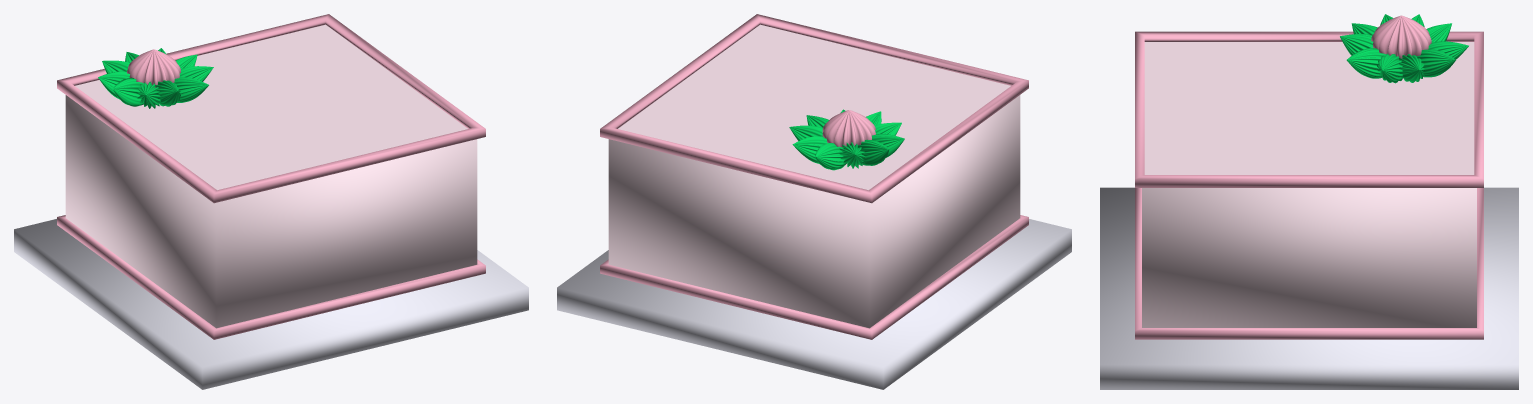
File: square_strawberry_style3.glb
3 views of the same model, side by side, from view 1: azimuth 30°, elevation 25°; view 2: azimuth 150°, elevation 25°; view 3: azimuth 270°, elevation 25° (orthographic). The views are drawn at different scales.
Visible parts, largest first — view 1: CakeBase, CakeTopCircle, IcingStand, IcingRing.001, IcingRing, leaf, design1; view 2: CakeBase, CakeTopCircle, IcingStand, IcingRing.001, IcingRing, leaf, design1; view 3: CakeBase, CakeTopCircle, IcingStand, IcingRing.001, IcingRing, leaf, design1.
Boxes of the visible parts, box(x1,y1,x2,y2) form: CakeBase: box(65, 95, 477, 328); CakeTopCircle: box(75, 24, 467, 190); IcingStand: box(14, 219, 528, 389); IcingRing.001: box(57, 14, 485, 203); IcingRing: box(57, 215, 485, 339); leaf: box(98, 48, 213, 108); design1: box(127, 49, 180, 87); CakeBase: box(608, 95, 1020, 328); CakeTopCircle: box(618, 24, 1010, 190); IcingStand: box(557, 219, 1071, 389); IcingRing.001: box(600, 14, 1028, 203); IcingRing: box(600, 215, 1028, 339); leaf: box(789, 109, 904, 170); design1: box(822, 110, 875, 147); CakeBase: box(1142, 188, 1476, 327); CakeTopCircle: box(1144, 42, 1474, 174); IcingStand: box(1100, 187, 1518, 389); IcingRing.001: box(1135, 31, 1483, 187); IcingRing: box(1135, 188, 1483, 339); leaf: box(1340, 14, 1468, 83); design1: box(1371, 15, 1431, 58).
Size of the model in its own units: 3 by 1.93 by 3.
